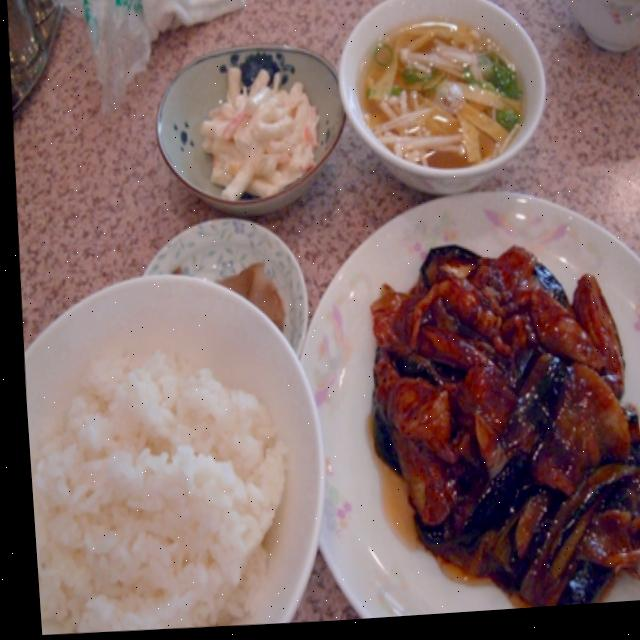鸡蛋料理: (333, 221, 640, 623)
